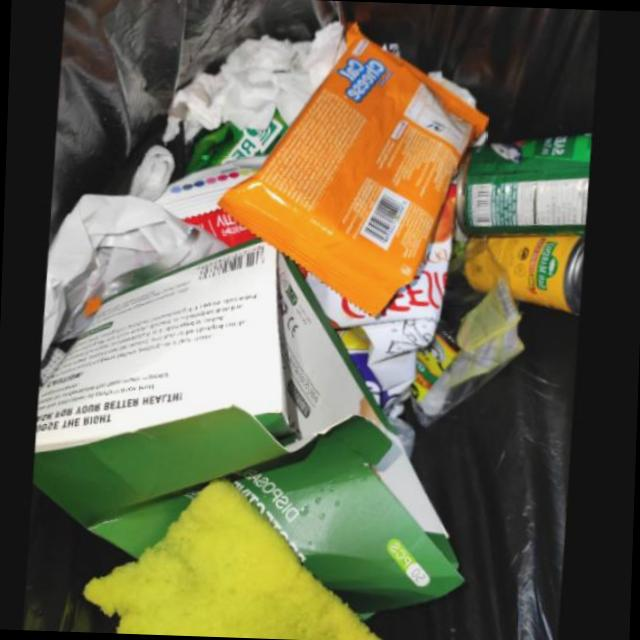bao_bi_thuc_pham: (221, 31, 491, 323), (298, 177, 464, 342), (411, 283, 530, 436), (185, 87, 329, 187), (160, 159, 273, 253)
carton: (34, 246, 465, 629)
giay: (164, 29, 349, 150)
nhom: (461, 146, 595, 243), (463, 244, 588, 328)
